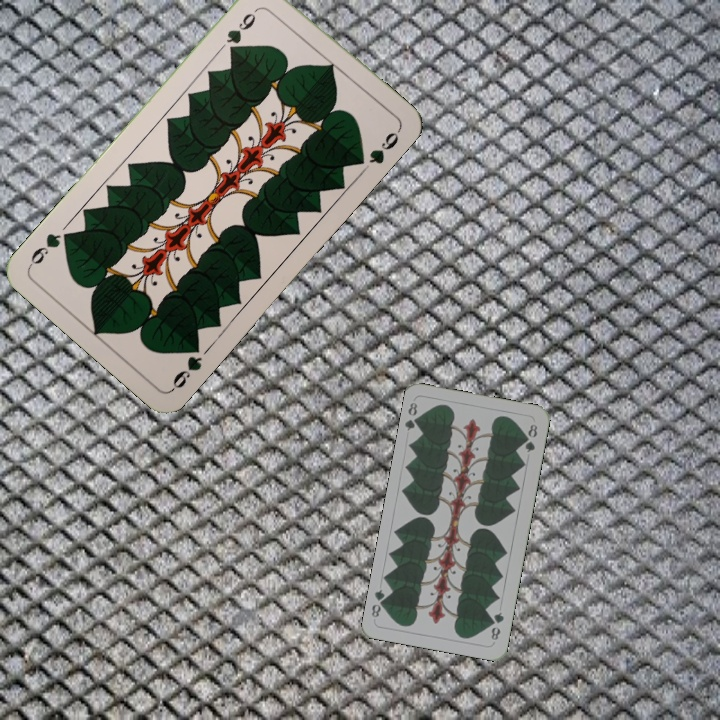G8: (401, 398, 423, 433), (487, 608, 507, 643)
G9: (167, 338, 206, 393), (222, 3, 262, 56)
